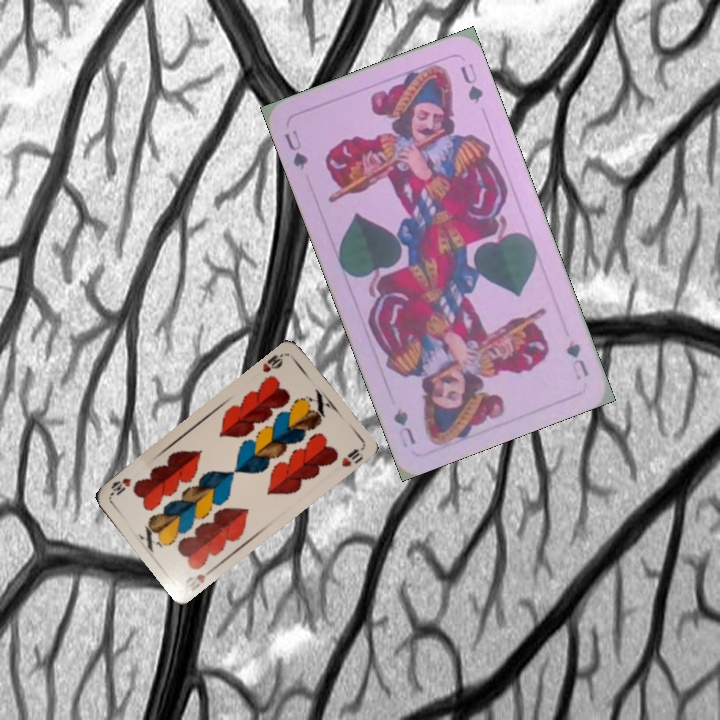GU: (280, 126, 311, 173), (562, 336, 592, 383)
H10: (180, 563, 217, 589), (258, 349, 288, 375)
